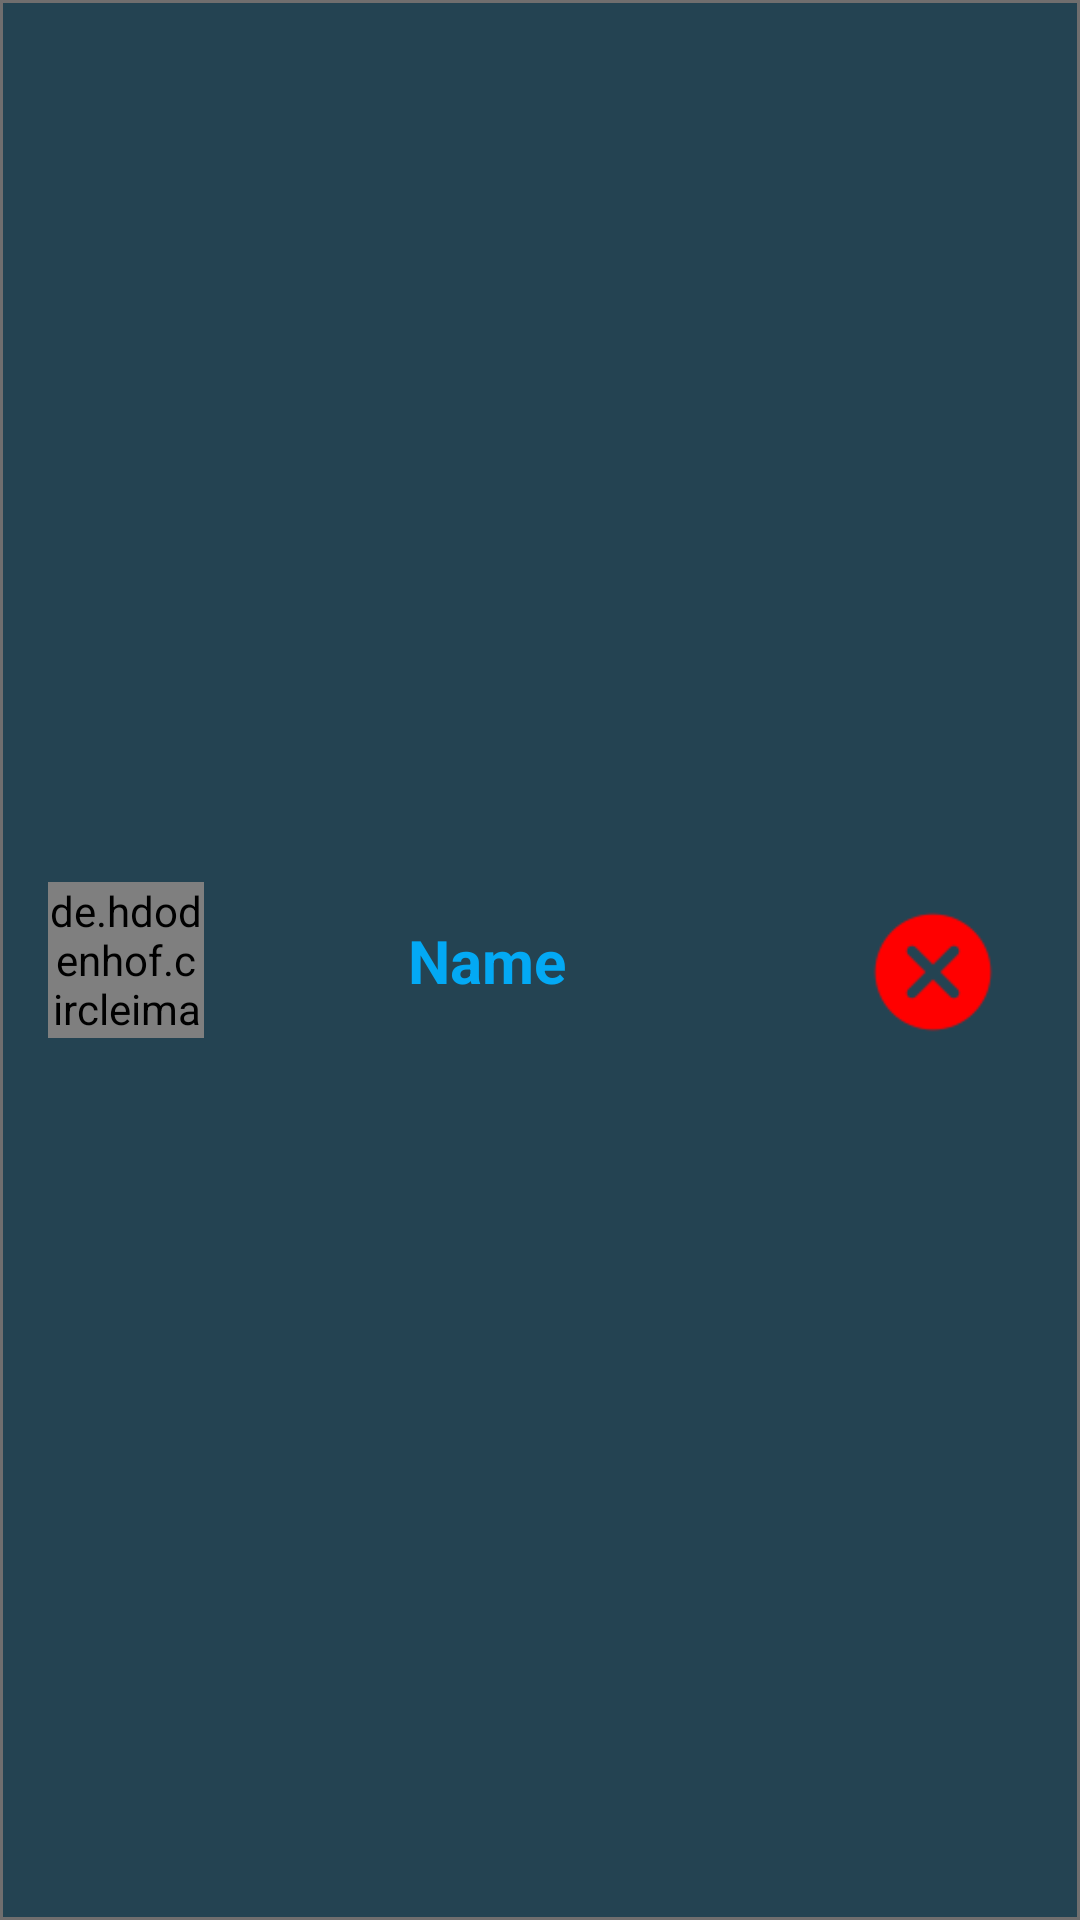

Icons on this 1080*1920 Android screen, each with its box as (x1, y1, x2, y2):
cancel: (874, 913, 992, 1031)
